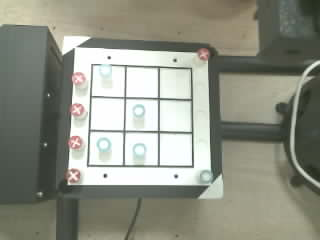blue circle: (133, 143, 147, 158), (97, 138, 112, 152), (99, 64, 111, 77), (133, 104, 145, 117), (200, 170, 212, 183)
board: (66, 47, 212, 185)
cells: (89, 132, 123, 165), (125, 133, 157, 165), (90, 98, 123, 129), (92, 65, 124, 96), (160, 100, 191, 131), (160, 134, 191, 165), (126, 100, 157, 130), (127, 67, 157, 97), (160, 68, 190, 98)
grid: (87, 64, 193, 167)
red cross: (70, 103, 86, 117), (65, 168, 80, 182), (68, 136, 82, 149), (72, 72, 85, 85), (197, 48, 210, 60)
